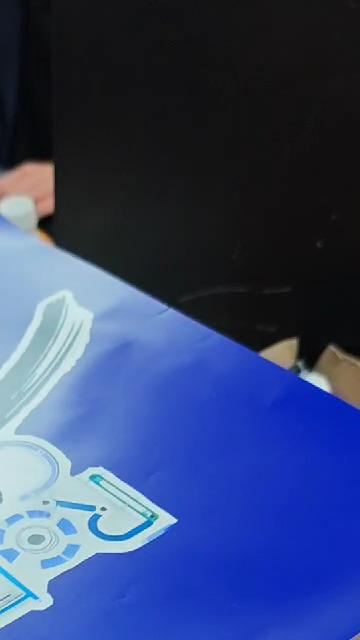B_R1: (0, 306, 167, 640)
